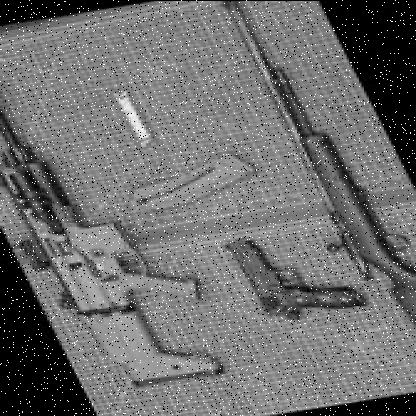rifle: (200, 0, 416, 387), (0, 56, 245, 396)
